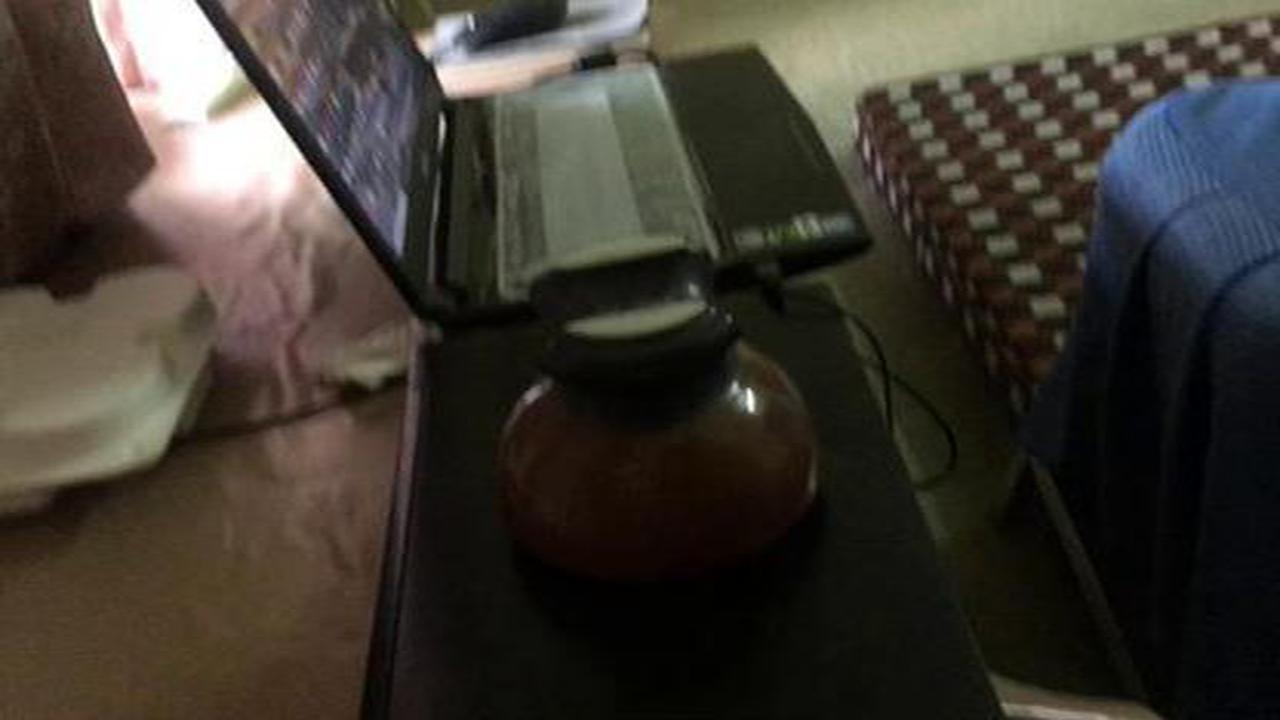insulator_pin: (465, 234, 837, 615)
